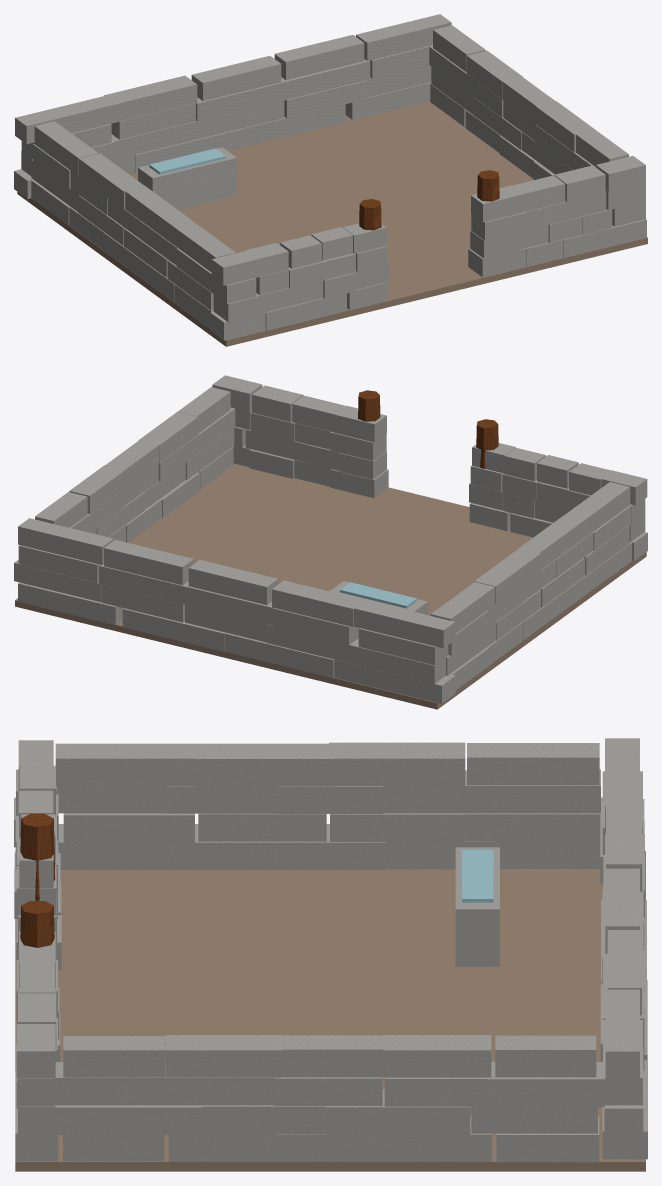
Rendered from andean-terraces-and-stone-village-walled-animal-pen-1b19074e__38253.glb.
3 views of the same model, one above another, from view 1: azimuth 30°, elevation 25°; view 2: azimuth 150°, elevation 25°; view 3: azimuth 270°, elevation 25° (orthographic). The views are drawn at different scales.
Visible parts, largest first — view 1: walled-animal-pen-stone, walled-animal-pen-earth, walled-animal-pen-timber, walled-animal-pen-water; view 2: walled-animal-pen-stone, walled-animal-pen-earth, walled-animal-pen-timber, walled-animal-pen-water; view 3: walled-animal-pen-stone, walled-animal-pen-earth, walled-animal-pen-timber, walled-animal-pen-water.
Boxes of the visible parts, bbox=[...] form: walled-animal-pen-stone: bbox=[14, 14, 646, 340]; walled-animal-pen-earth: bbox=[17, 101, 647, 346]; walled-animal-pen-timber: bbox=[359, 170, 499, 230]; walled-animal-pen-water: bbox=[149, 148, 225, 174]; walled-animal-pen-stone: bbox=[14, 375, 647, 703]; walled-animal-pen-earth: bbox=[15, 463, 646, 709]; walled-animal-pen-timber: bbox=[358, 390, 498, 468]; walled-animal-pen-water: bbox=[340, 582, 416, 608]; walled-animal-pen-stone: bbox=[14, 738, 647, 1162]; walled-animal-pen-earth: bbox=[15, 851, 645, 1171]; walled-animal-pen-timber: bbox=[20, 813, 55, 947]; walled-animal-pen-water: bbox=[462, 850, 493, 902].
Size of the model in its own units: 7.1 by 1.6 by 6.03.
Materials: 4 (2 with a texture image).
